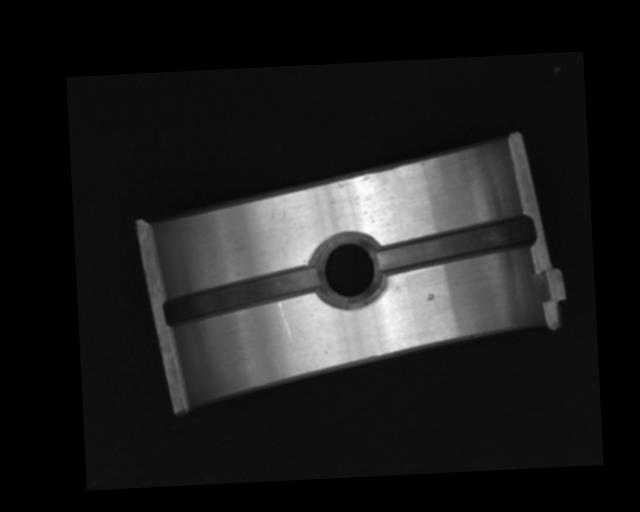bruise: (425, 292, 435, 301)
gap: (162, 264, 322, 327), (374, 215, 537, 272)
hole: (311, 230, 384, 311)
nick: (278, 300, 293, 341)
